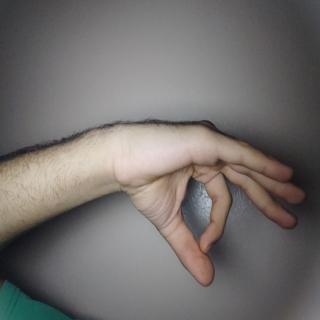Space: (84, 15, 219, 283)
